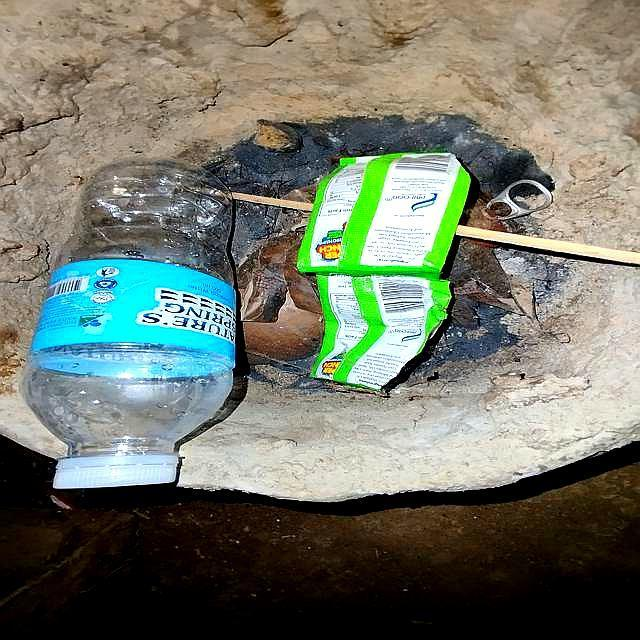Non-biodegradable: (19, 161, 231, 493), (301, 149, 475, 395)
